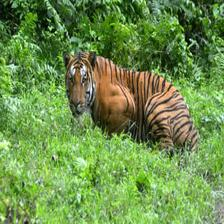tiger: (65, 50, 200, 154)
